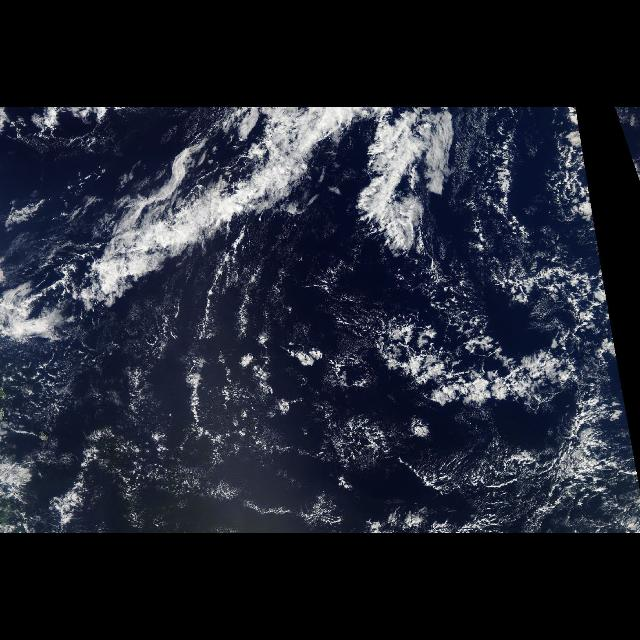Fish: (353, 107, 605, 423), (14, 139, 348, 345)
